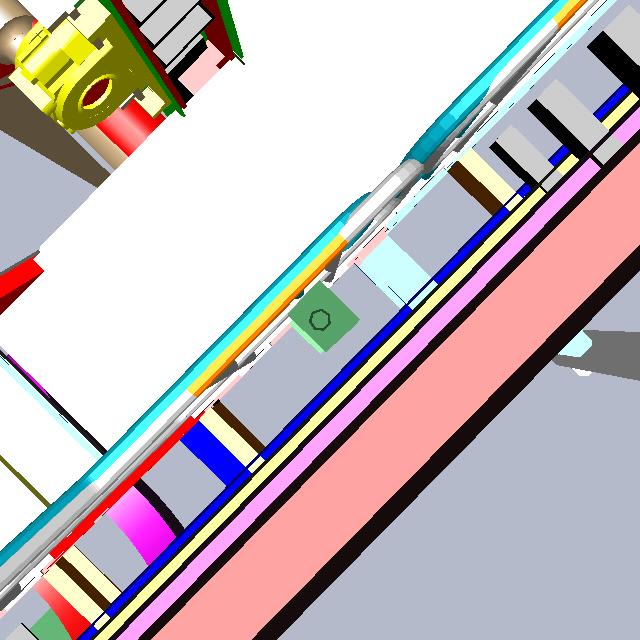Poste: (305, 308, 335, 340)
Soporte: (552, 291, 640, 396)
